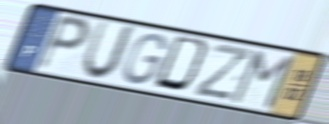D: (150, 33, 213, 97)
G: (122, 32, 169, 87)
M: (227, 48, 298, 112)
P: (33, 12, 93, 74)
U: (79, 18, 139, 83)
Z: (191, 41, 255, 103)
